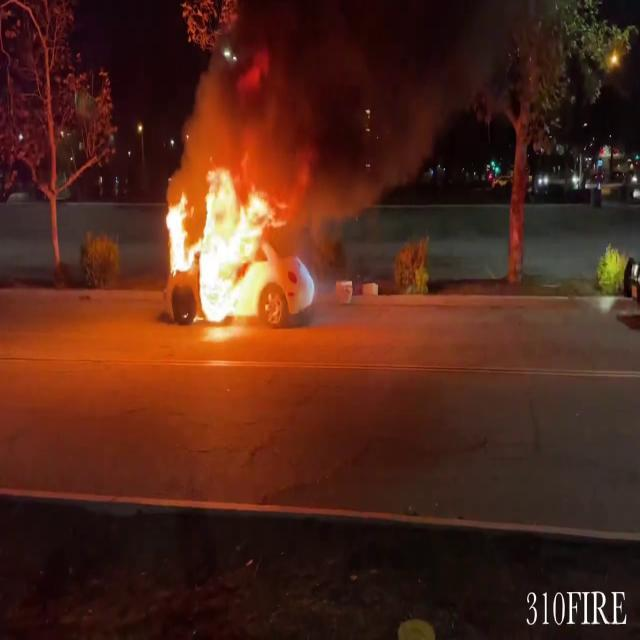Fire: (158, 158, 292, 332)
Smoke: (182, 0, 512, 202)
